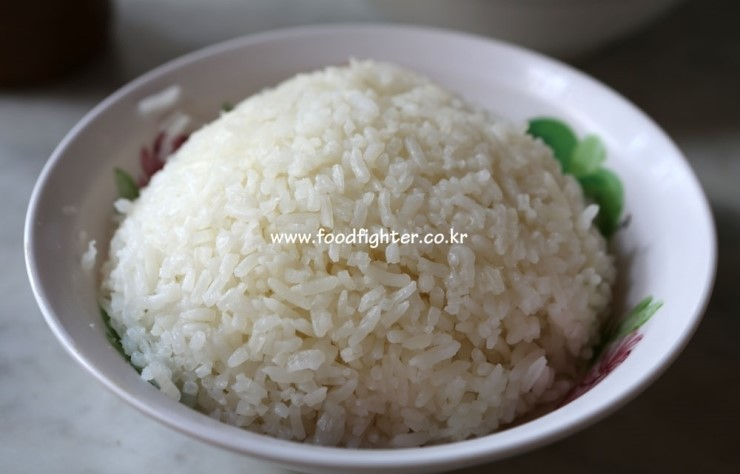plain rice: (117, 67, 605, 412)
